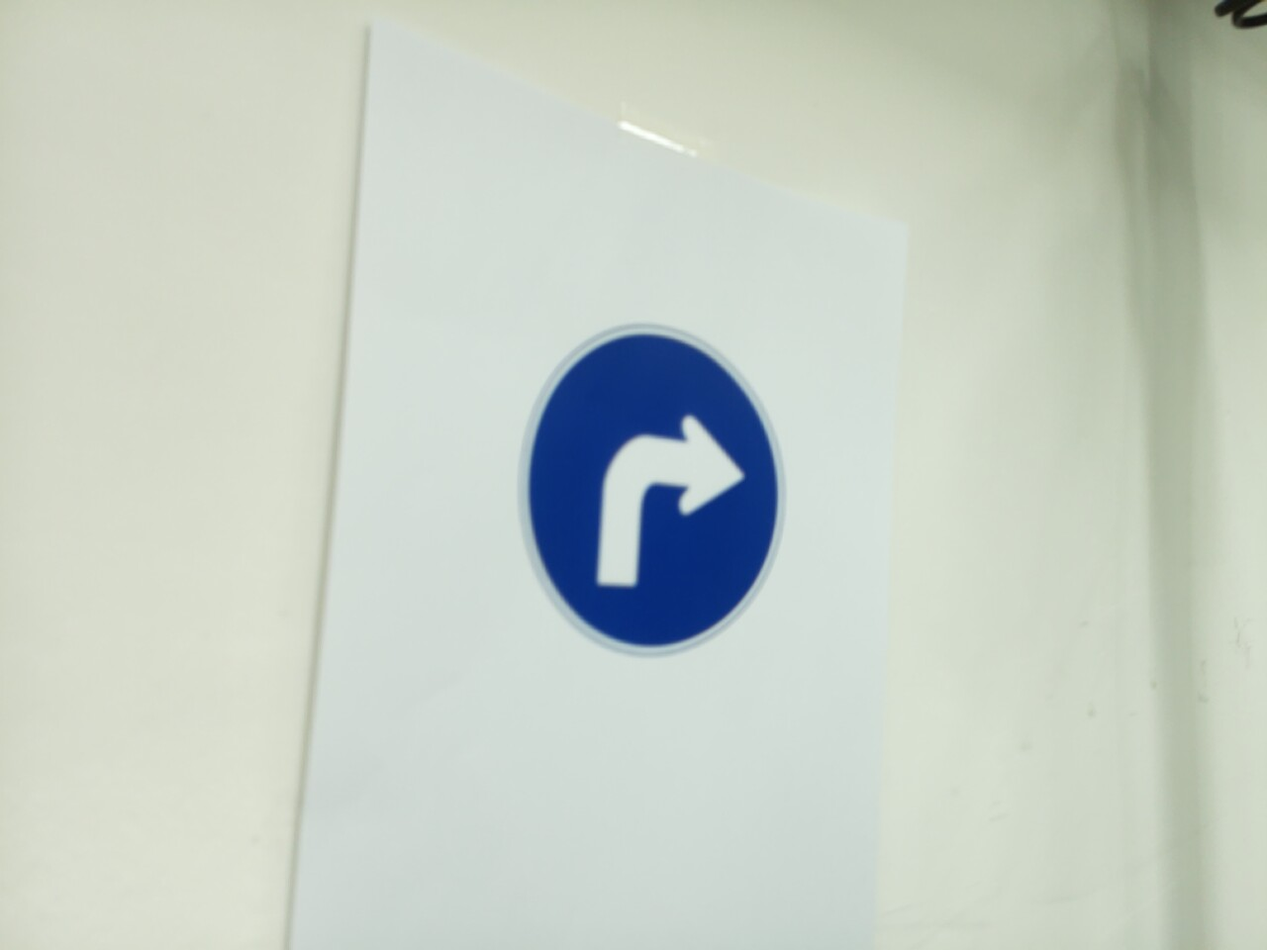right_turn: (520, 325, 787, 657)
